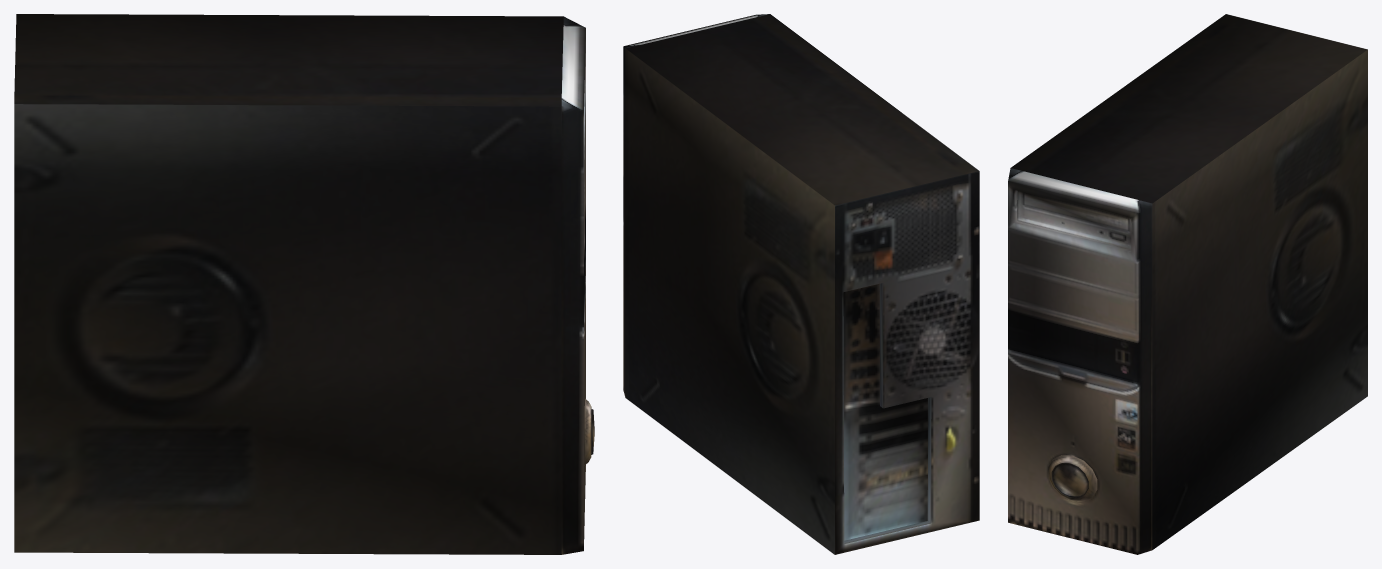
Rendered from NewWebLelloOBJ1.gltf.
3 renders of one model, left to right at view 1: azimuth 30°, elevation 25°; view 2: azimuth 150°, elevation 25°; view 3: azimuth 270°, elevation 25°, orthographic. The views are drawn at different scales.
Visible parts, largest first — view 1: Assistenza Tecnica Pc Dx; view 2: Assistenza Tecnica Pc Dx; view 3: Assistenza Tecnica Pc Dx.
Boxes of the visible parts, x1,y1,x2,y2 form: Assistenza Tecnica Pc Dx: [14, 14, 594, 554]; Assistenza Tecnica Pc Dx: [623, 14, 979, 554]; Assistenza Tecnica Pc Dx: [1008, 14, 1367, 554].
Size of the model in its own units: 0.0618 by 0.0514 by 0.0484.
Materials: 1 (1 with a texture image).
